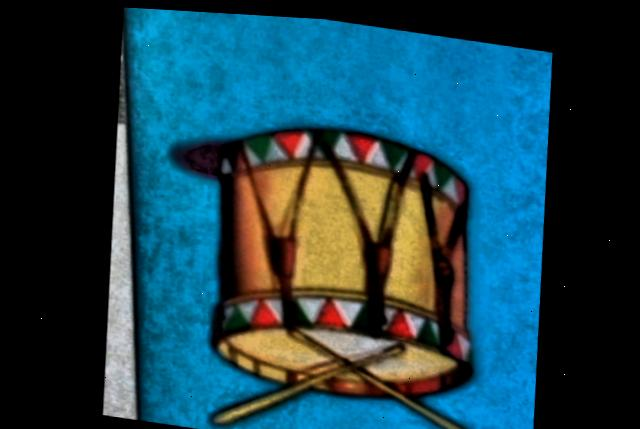El Tambor: (125, 6, 552, 429)
